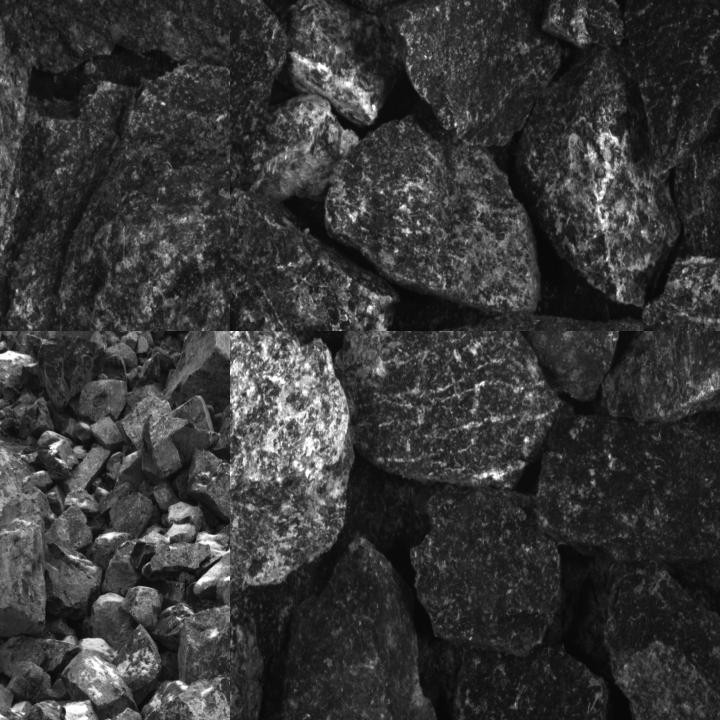stone: (0, 63, 229, 330), (521, 45, 678, 307), (325, 121, 538, 312), (333, 331, 563, 492), (230, 331, 355, 598), (280, 531, 446, 719), (539, 413, 719, 586), (381, 0, 563, 145), (412, 485, 562, 659), (230, 185, 399, 330), (604, 563, 719, 719), (0, 0, 229, 71), (626, 0, 719, 171), (279, 0, 402, 126), (230, 97, 361, 205), (454, 645, 614, 719), (465, 331, 619, 404), (0, 489, 55, 638), (140, 396, 219, 481), (675, 135, 719, 266), (644, 254, 719, 330), (161, 331, 229, 414), (62, 649, 138, 719), (41, 335, 101, 409), (102, 534, 168, 597), (540, 0, 626, 48), (177, 606, 229, 685), (46, 544, 101, 618), (230, 605, 264, 719), (141, 675, 229, 719), (115, 626, 161, 706), (0, 636, 80, 677), (186, 449, 229, 522), (91, 592, 136, 652), (144, 540, 213, 578), (47, 504, 98, 554), (62, 445, 112, 496), (7, 659, 57, 703), (110, 492, 160, 535), (75, 381, 128, 421), (36, 432, 80, 478), (194, 542, 229, 597), (124, 588, 162, 630), (18, 398, 52, 438), (64, 489, 100, 518), (6, 702, 66, 719), (213, 404, 229, 457), (47, 331, 101, 343)
